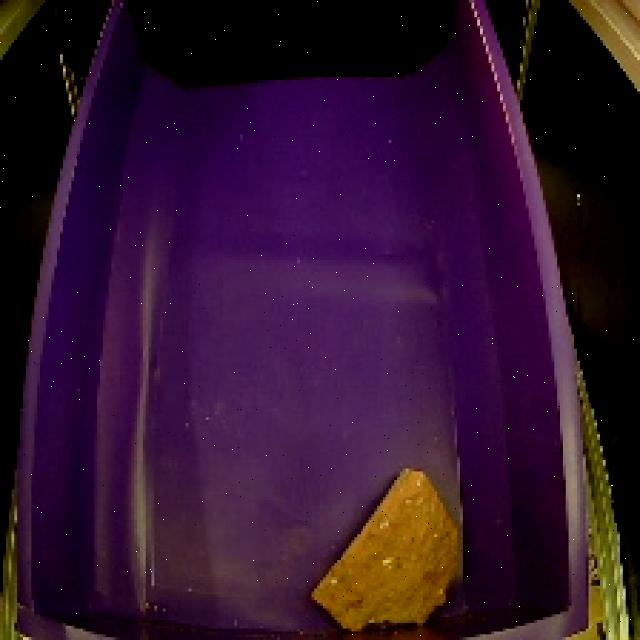brick: (306, 455, 466, 637)
